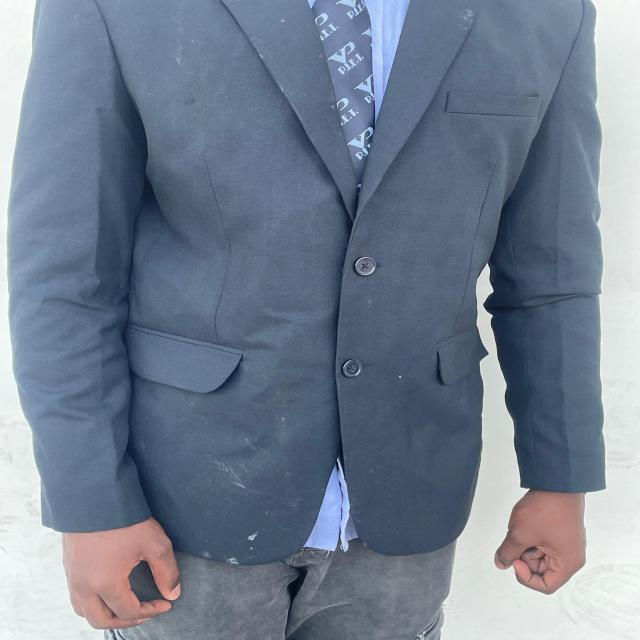Tie: (310, 0, 375, 184)
